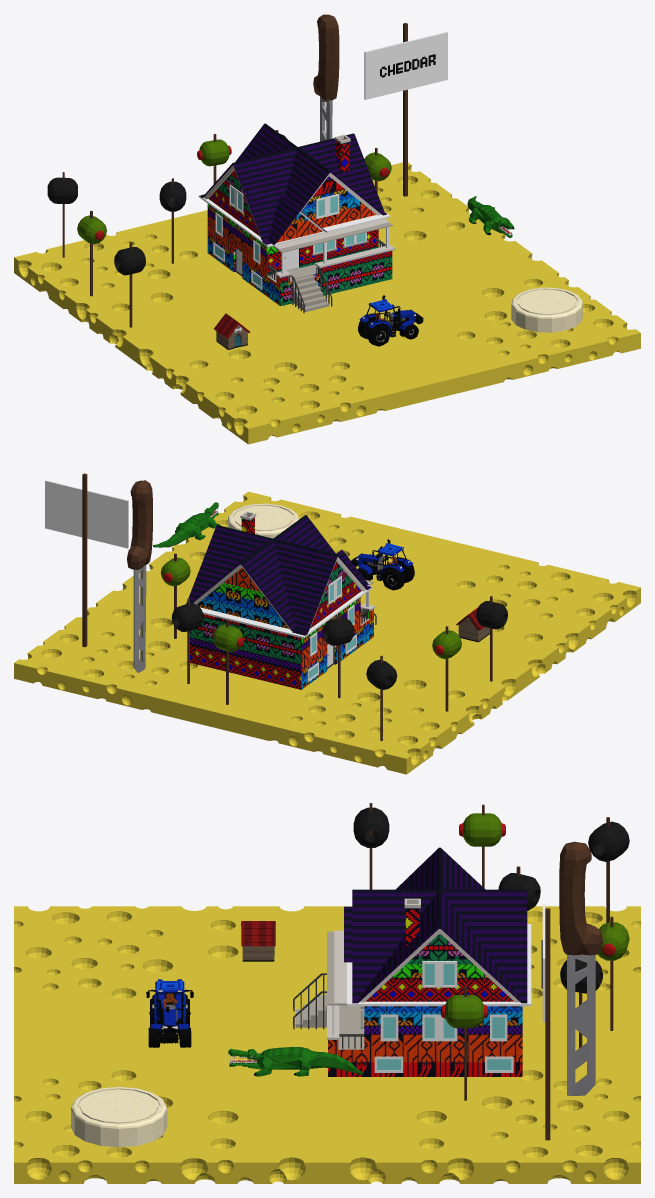
3 views of the same model, one above another, from view 1: azimuth 30°, elevation 25°; view 2: azimuth 150°, elevation 25°; view 3: azimuth 270°, elevation 25° (orthographic). The views are drawn at different scales.
Visible parts, largest first — view 1: Cube.022, Cube.966, Cube.023, Cylinder.016, Cube.024, VEHICLES_TRACTOR, Sphere.017, ANIMAL_COCODRILO, Sphere.016, OBJRANDOM_DOGHOUSE, Sphere.020, Sphere.018 (+2 smaller); view 2: Cube.022, Cube.966, Cube.023, Cube.024, VEHICLES_TRACTOR, Cylinder.016, ANIMAL_COCODRILO, Sphere.017, Sphere.020, Sphere.021, Sphere.016, Sphere.018 (+3 smaller); view 3: Cube.022, Cube.966, Cube.024, Cylinder.016, VEHICLES_TRACTOR, ANIMAL_COCODRILO, Cube.023, Sphere.019, Sphere.016, Sphere.018, OBJRANDOM_DOGHOUSE, Sphere.017 (+3 smaller).
Part boxes in pixels (<box>): Cube.022: <box>14,162,640,444</box>; Cube.966: <box>198,123,395,313</box>; Cube.023: <box>364,23,447,196</box>; Cylinder.016: <box>511,287,582,332</box>; Cube.024: <box>313,14,339,141</box>; VEHICLES_TRACTOR: <box>358,295,423,346</box>; Sphere.017: <box>114,242,145,327</box>; ANIMAL_COCODRILO: <box>467,196,514,237</box>; Sphere.016: <box>47,172,77,257</box>; OBJRANDOM_DOGHOUSE: <box>214,313,250,349</box>; Sphere.020: <box>159,178,186,263</box>; Sphere.018: <box>77,210,106,296</box>; Cube.022: <box>14,491,640,774</box>; Cube.966: <box>185,511,376,689</box>; Cube.023: <box>45,473,128,647</box>; Cube.024: <box>127,480,152,672</box>; VEHICLES_TRACTOR: <box>351,539,414,590</box>; Cylinder.016: <box>228,503,298,538</box>; ANIMAL_COCODRILO: <box>153,502,220,547</box>; Sphere.017: <box>476,596,507,681</box>; Sphere.020: <box>322,612,354,698</box>; Sphere.021: <box>171,598,203,683</box>; Sphere.016: <box>366,655,397,741</box>; Sphere.018: <box>432,626,461,711</box>; Cube.022: <box>14,906,640,1183</box>; Cube.966: <box>293,847,531,1076</box>; Cube.024: <box>559,841,602,1095</box>; Cylinder.016: <box>71,1086,167,1147</box>; VEHICLES_TRACTOR: <box>146,979,193,1047</box>; ANIMAL_COCODRILO: <box>228,1047,362,1076</box>; Cube.023: <box>541,904,550,1140</box>; Sphere.019: <box>441,986,487,1100</box>; Sphere.016: <box>588,817,629,922</box>; Sphere.018: <box>459,804,505,887</box>; OBJRANDOM_DOGHOUSE: <box>241,921,275,961</box>; Sphere.017: <box>353,803,389,889</box>.
Bounding box in the file's own units: 3917 × 2007 × 4000.
43 materials, 7 textured.
